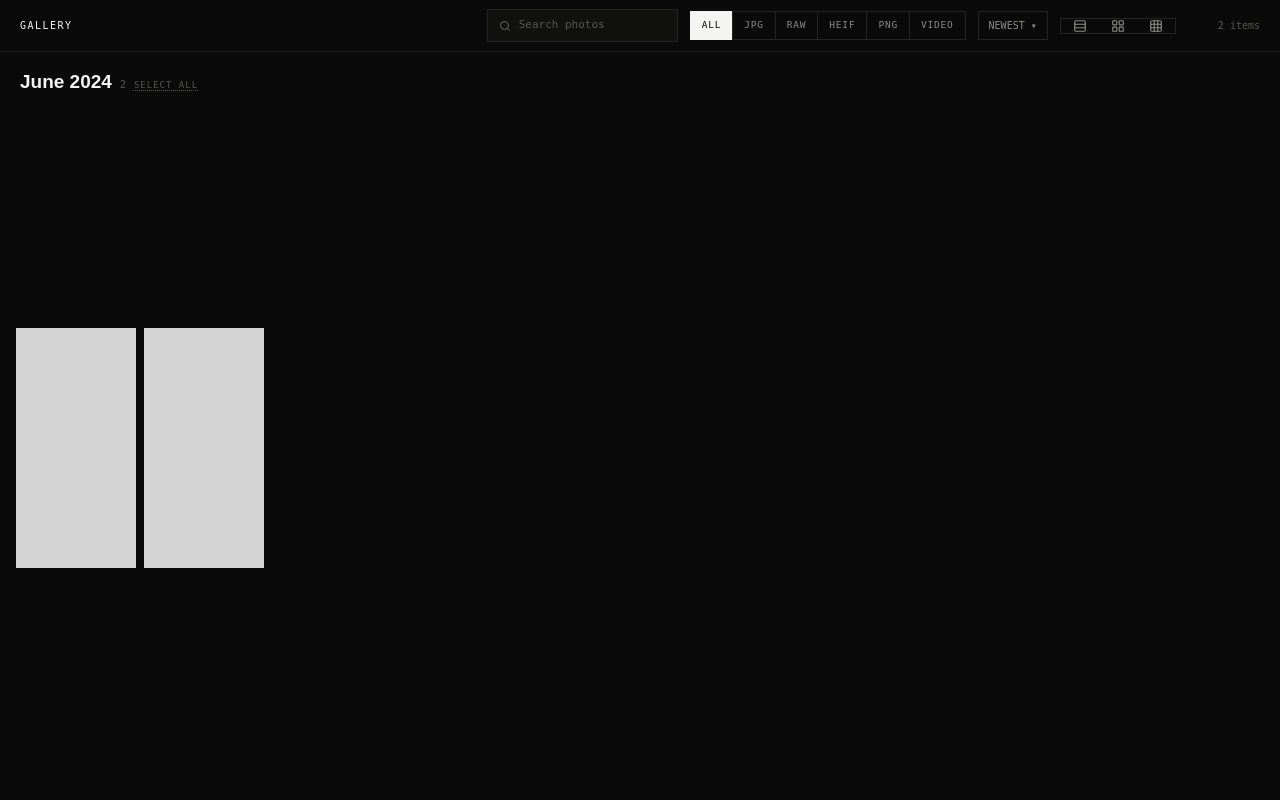
Test: closes the lightbox on Escape
The width and height of the screenshot is (1280, 800).
Click the button named "photos/": (76, 448) [16, 328, 136, 568]
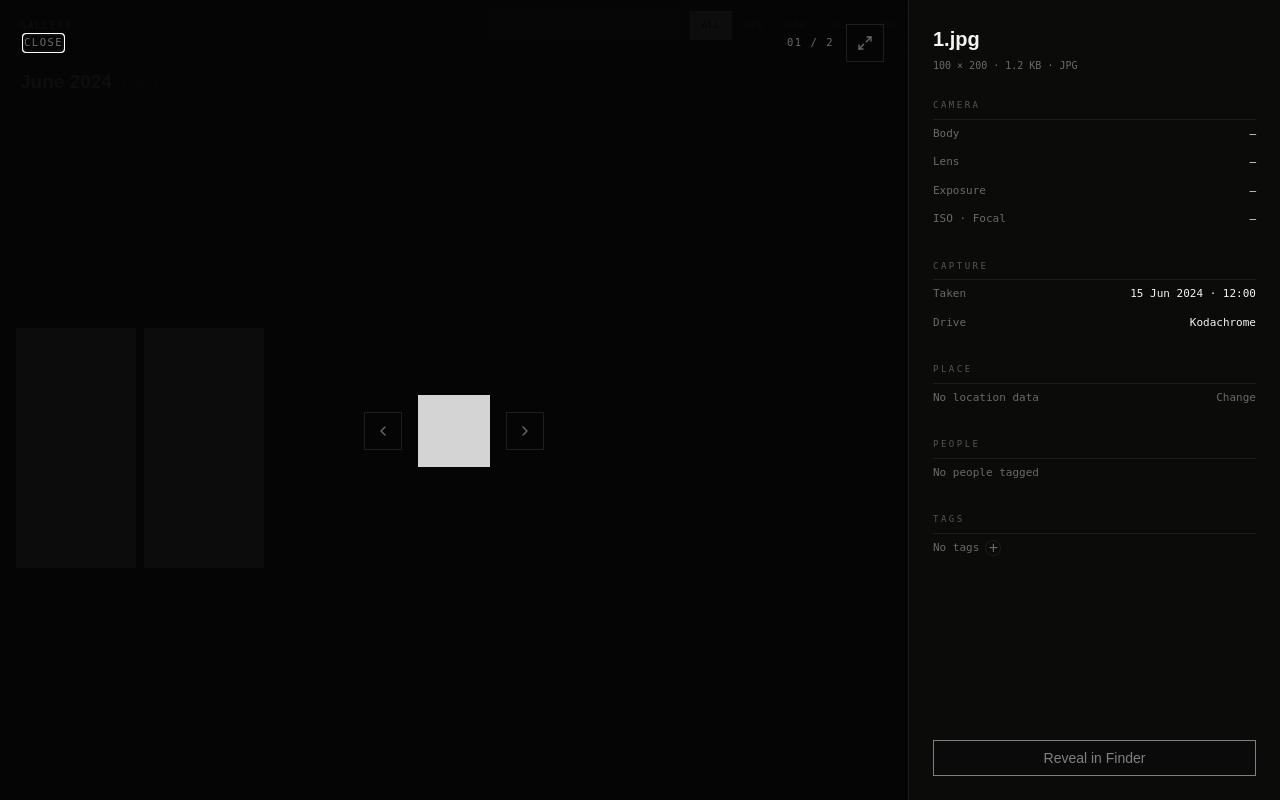
Press Escape in the dialog
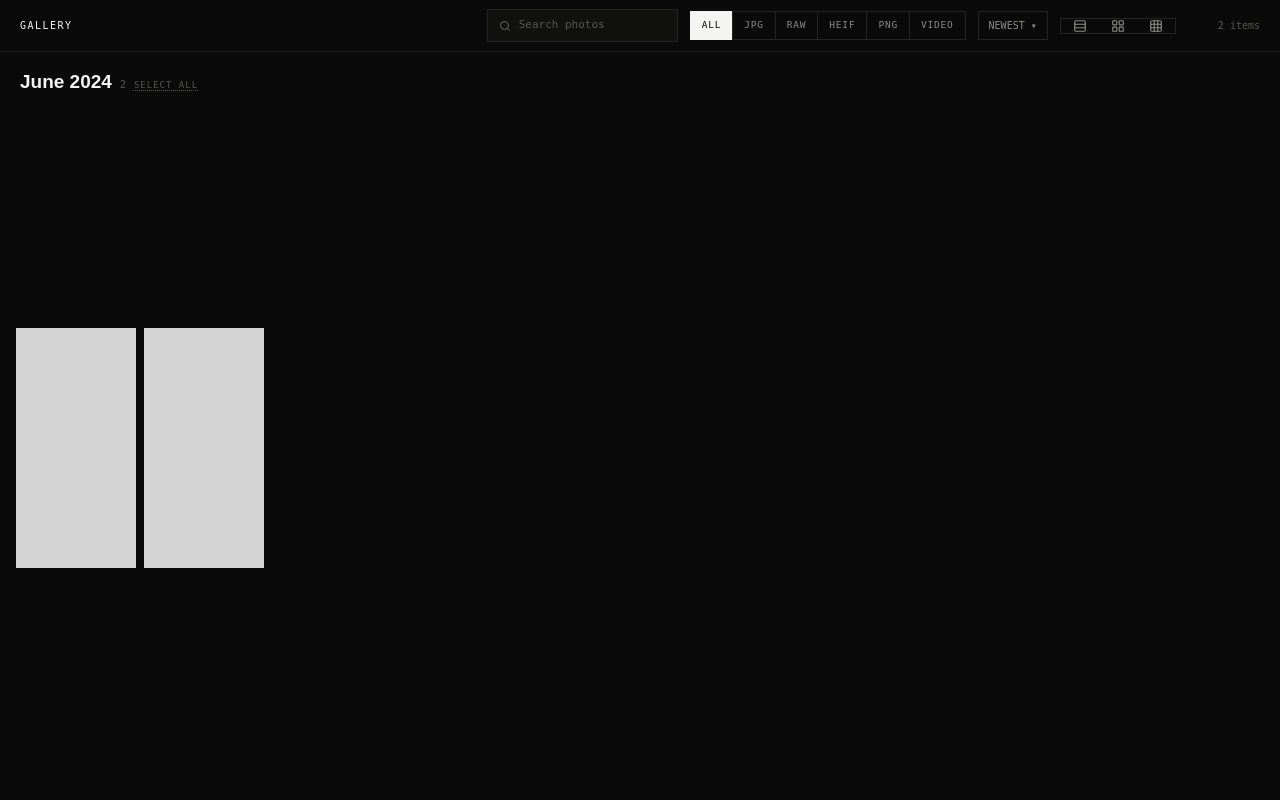
Expected: the dialog is gone
